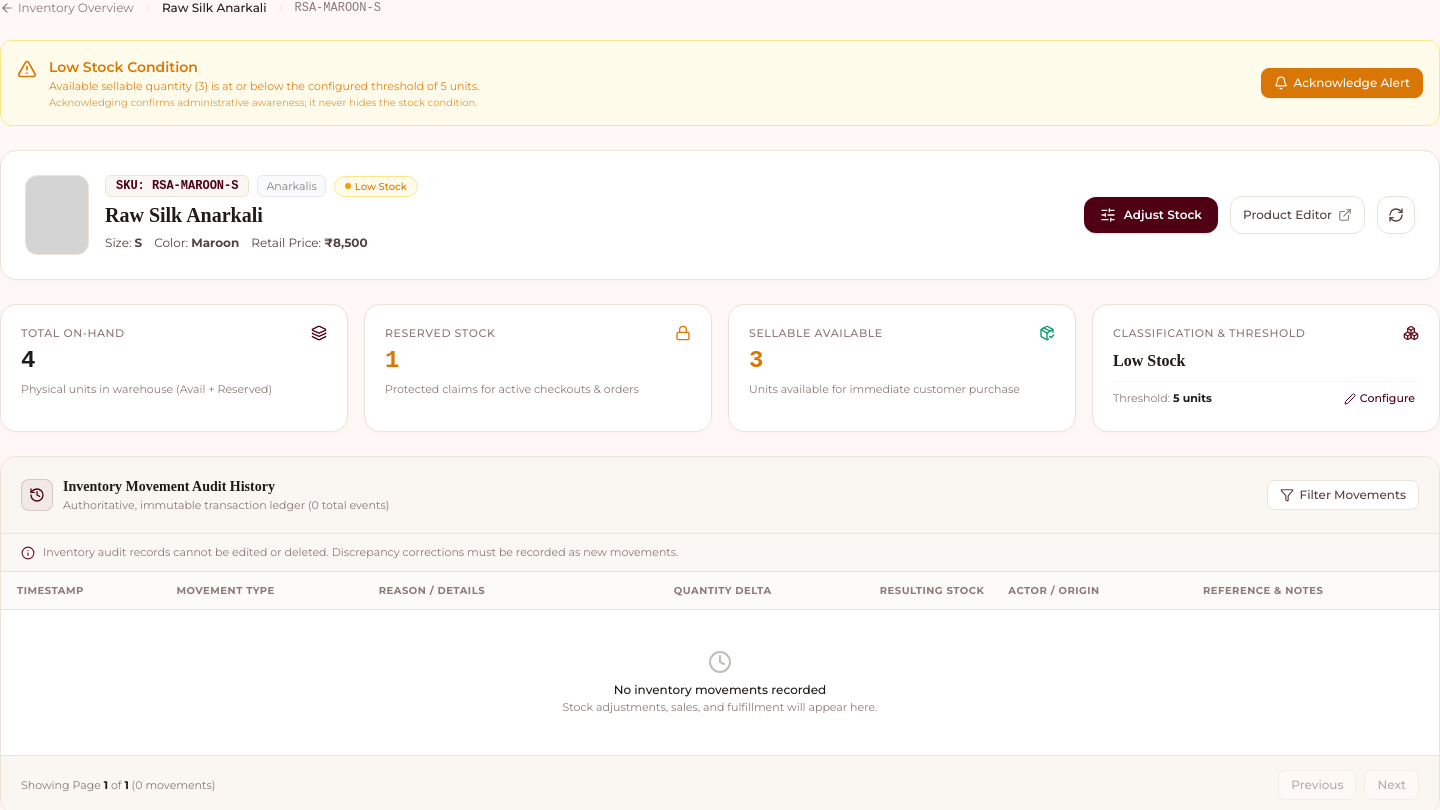
Scenario: Sprint A3.4 — Admin Inventory Monitoring & Low-Stock Alerts › AdminInventoryDetailClient Alert & Threshold Management › displays alert banner and supports acknowledging/unacknowledging alerts
Expected: the element with test id "inventory-alert-banner" is shown, [0,40,1439,126]
Expected: the text "Low Stock Condition" is shown, [49,58,198,76]
Note: Click acknowledge
Click the button with test id "alert-ack-button" at (1342,83), box [1260,68,1423,98]
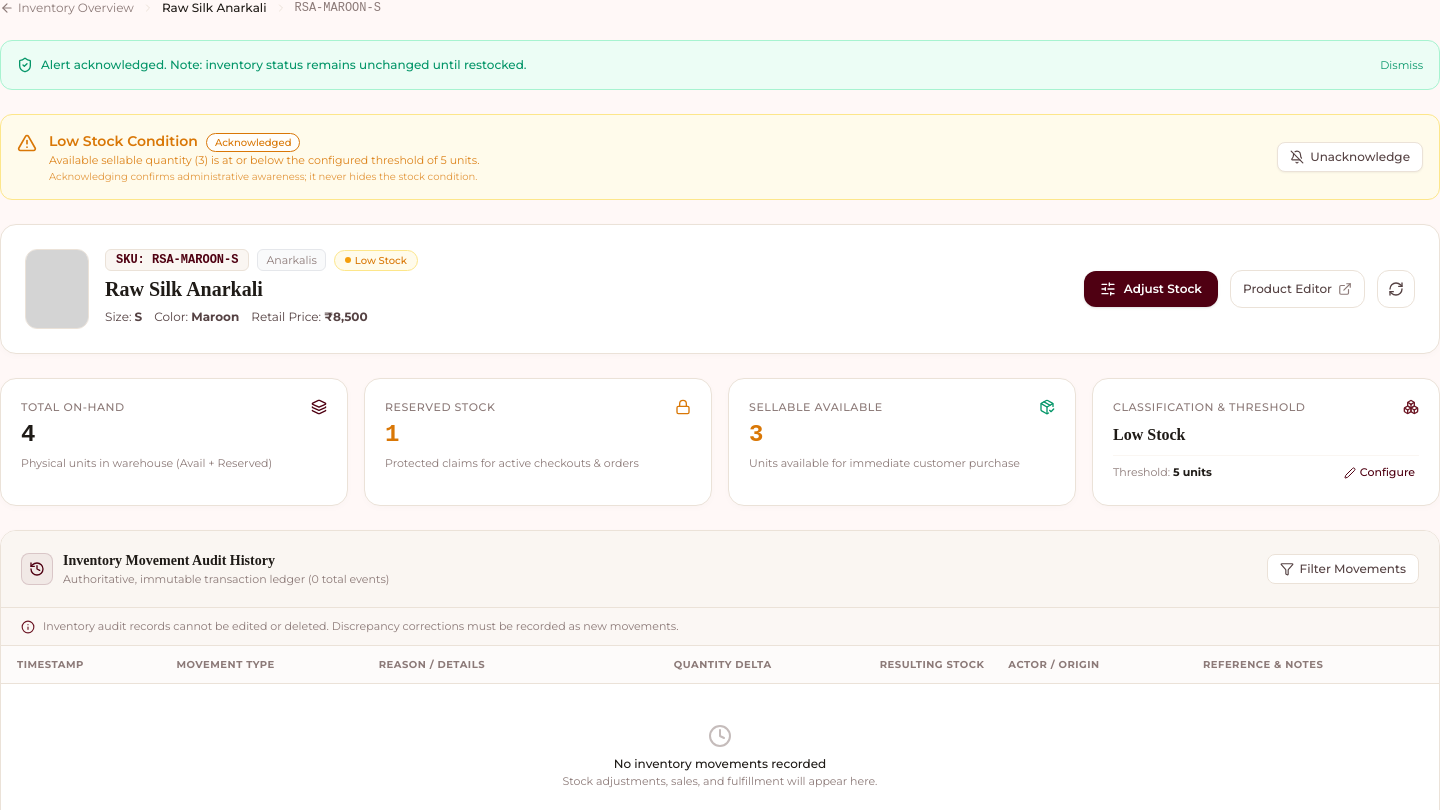
Expected: the text "Unacknowledge" is shown, [1310,149,1410,165]
